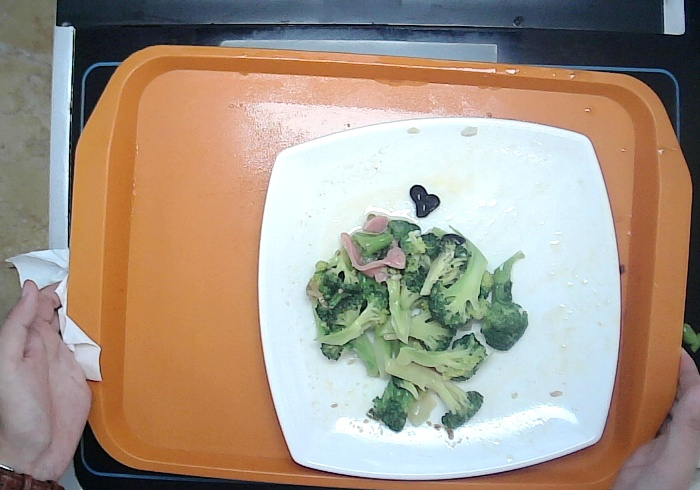ZNLD-Bai_Fang_Pan: (241, 106, 639, 490)
